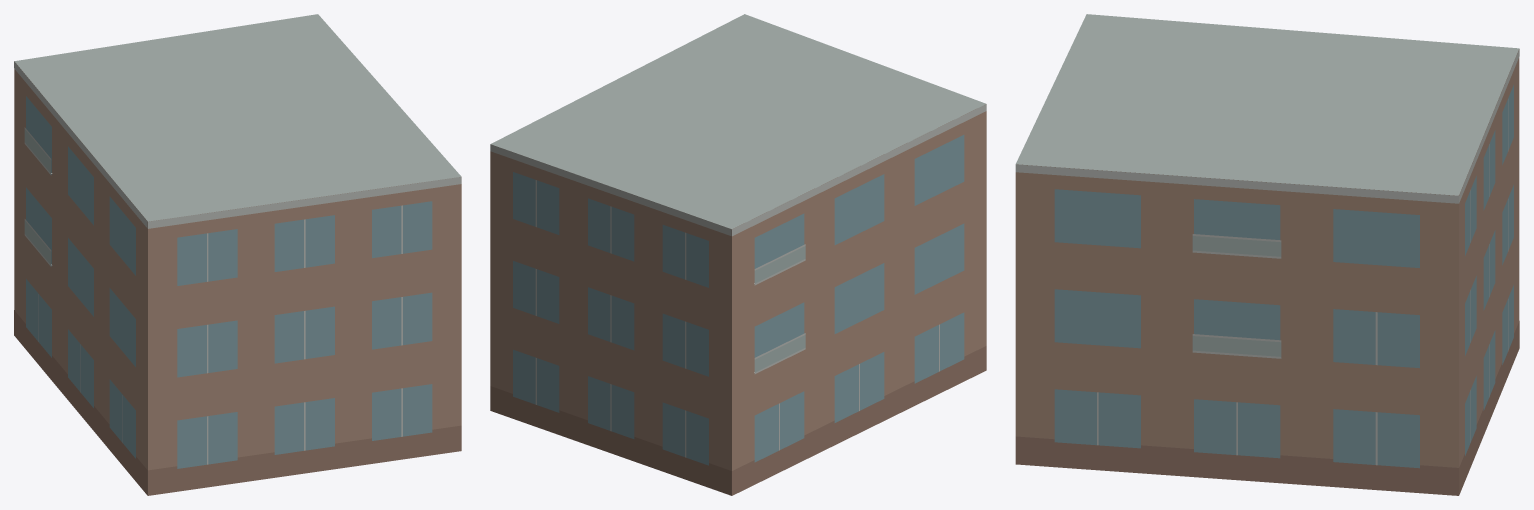
Rendered from survey-upis-32702649.glb.
3 renders of one model, left to right at view 1: azimuth 30°, elevation 25°; view 2: azimuth 150°, elevation 25°; view 3: azimuth 270°, elevation 25°, orthographic. The views are drawn at different scales.
Parts seen in each view (by area): view 1: survey-upis-32702649.tmp; view 2: survey-upis-32702649.tmp; view 3: survey-upis-32702649.tmp.
Boxes of the visible parts, x1=… form: survey-upis-32702649.tmp: x1=14, y1=14, x2=461, y2=495; survey-upis-32702649.tmp: x1=490, y1=14, x2=986, y2=495; survey-upis-32702649.tmp: x1=1015, y1=14, x2=1519, y2=495.
Bounding box in the file's own units: 11.89 × 9.15 × 13.93.
